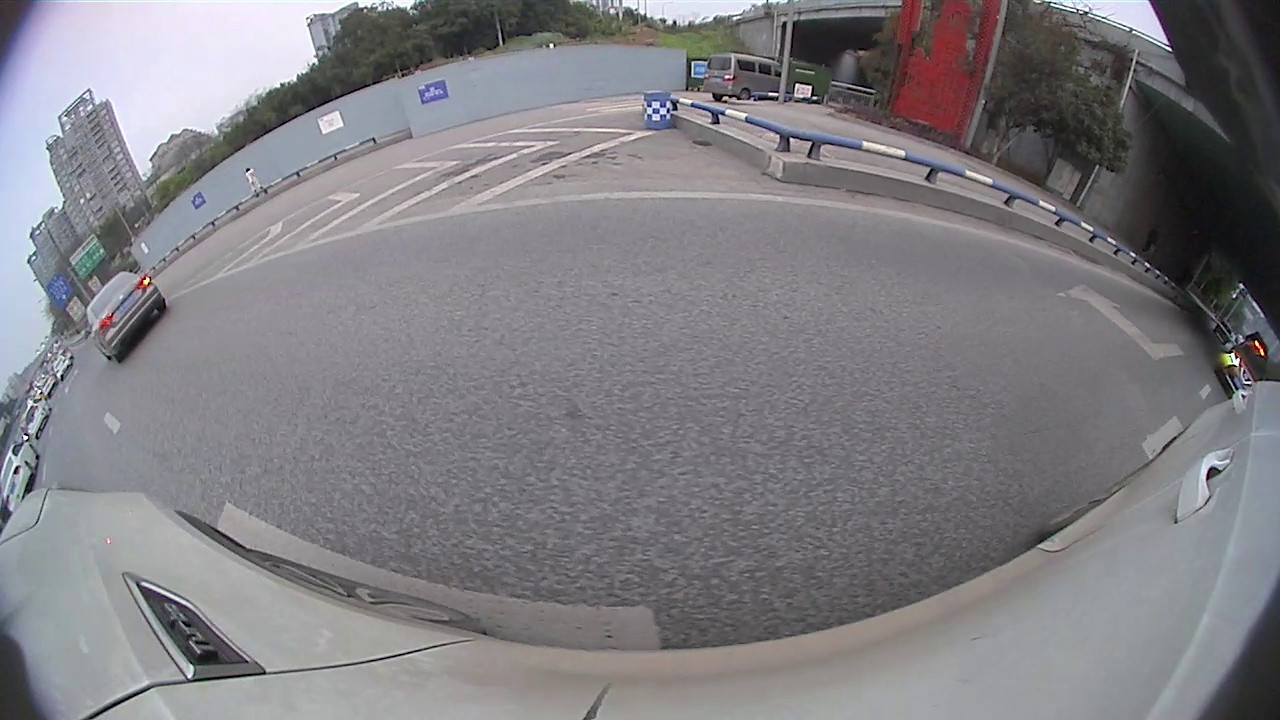car: (84, 269, 168, 365), (701, 51, 783, 102), (1213, 340, 1267, 399), (1, 439, 41, 514), (18, 397, 52, 442)
person: (244, 168, 257, 198)
rear: (113, 345, 132, 365), (156, 299, 172, 316)
